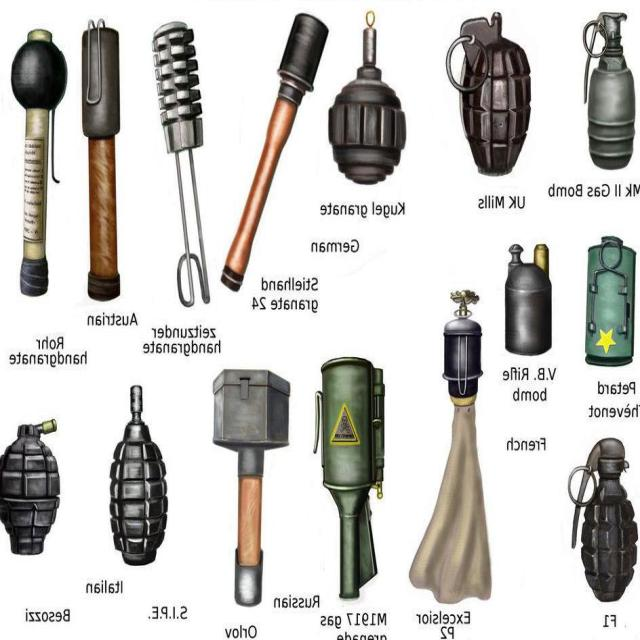grenade: (315, 357, 386, 604), (445, 12, 533, 178), (327, 12, 409, 189), (569, 438, 639, 605), (109, 386, 170, 569), (583, 11, 638, 171), (2, 418, 62, 560), (585, 237, 639, 367), (505, 246, 554, 354), (11, 29, 69, 111)
